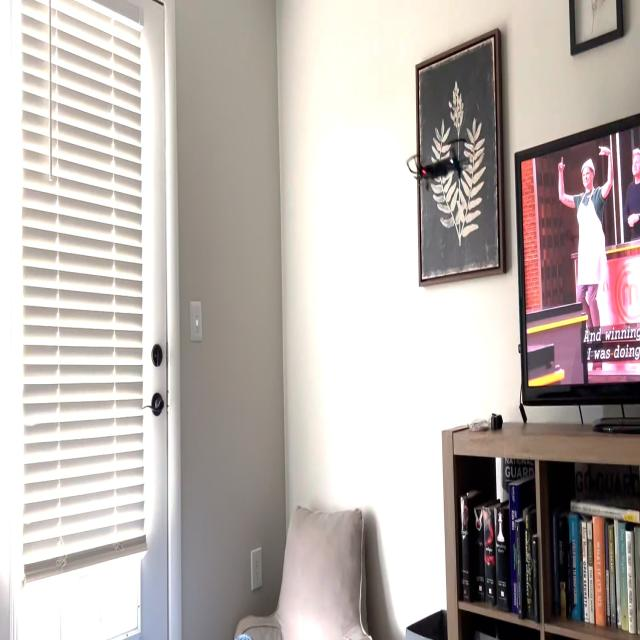drone: (398, 134, 479, 191)
